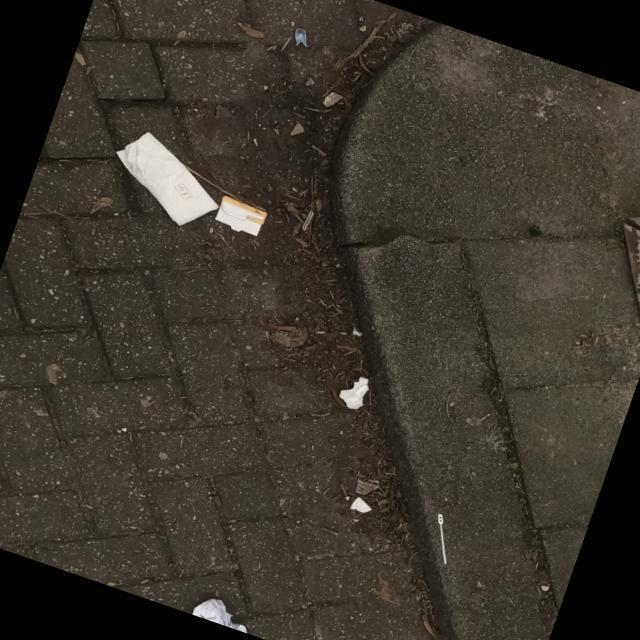Paper: (115, 130, 219, 227), (214, 194, 268, 237), (192, 597, 248, 635), (338, 376, 369, 410)
